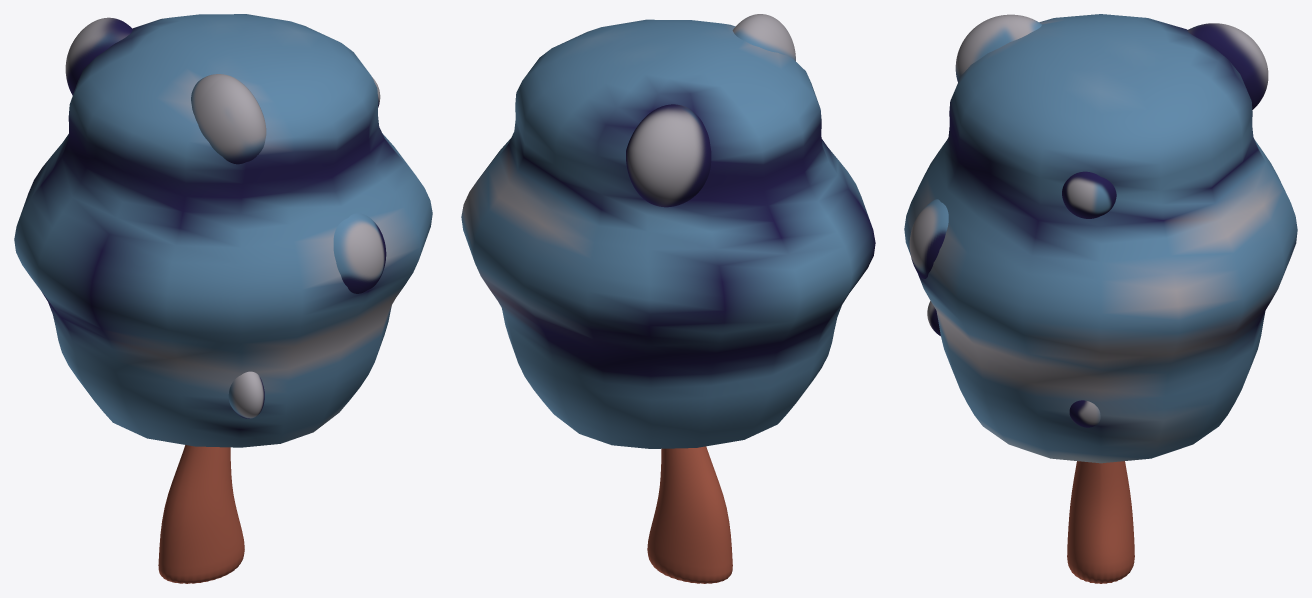
Rendered from snowplant1.fbx.
3 renders of one model, left to right at view 1: azimuth 30°, elevation 25°; view 2: azimuth 150°, elevation 25°; view 3: azimuth 270°, elevation 25°, orthographic. The views are drawn at different scales.
Parts seen in each view (by area): view 1: Circle; view 2: Circle; view 3: Circle.
Part boxes in pixels (<box>): Circle: <box>14,14,432,583</box>; Circle: <box>461,14,875,583</box>; Circle: <box>904,14,1297,583</box>.
Bounding box in the file's own units: 172 × 236 × 154.
